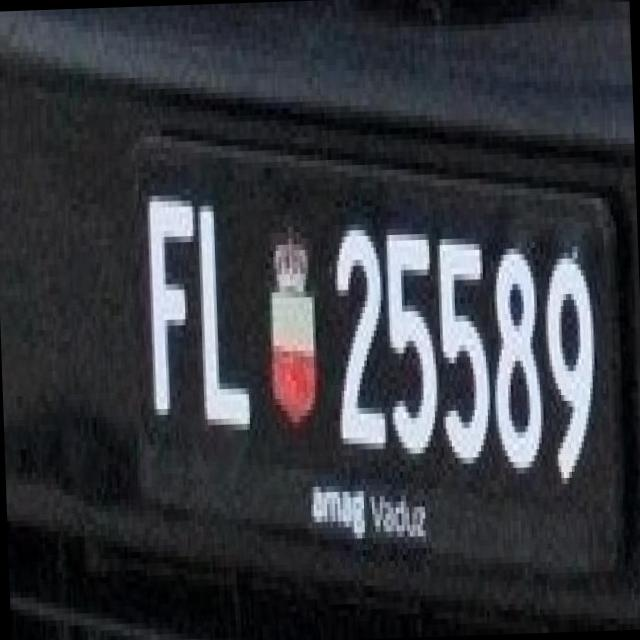2: (314, 206, 384, 444)
5: (424, 213, 497, 464), (369, 203, 439, 454)
8: (476, 230, 550, 462)
9: (528, 228, 606, 472)
F: (128, 182, 202, 416)
L: (182, 174, 262, 426)
